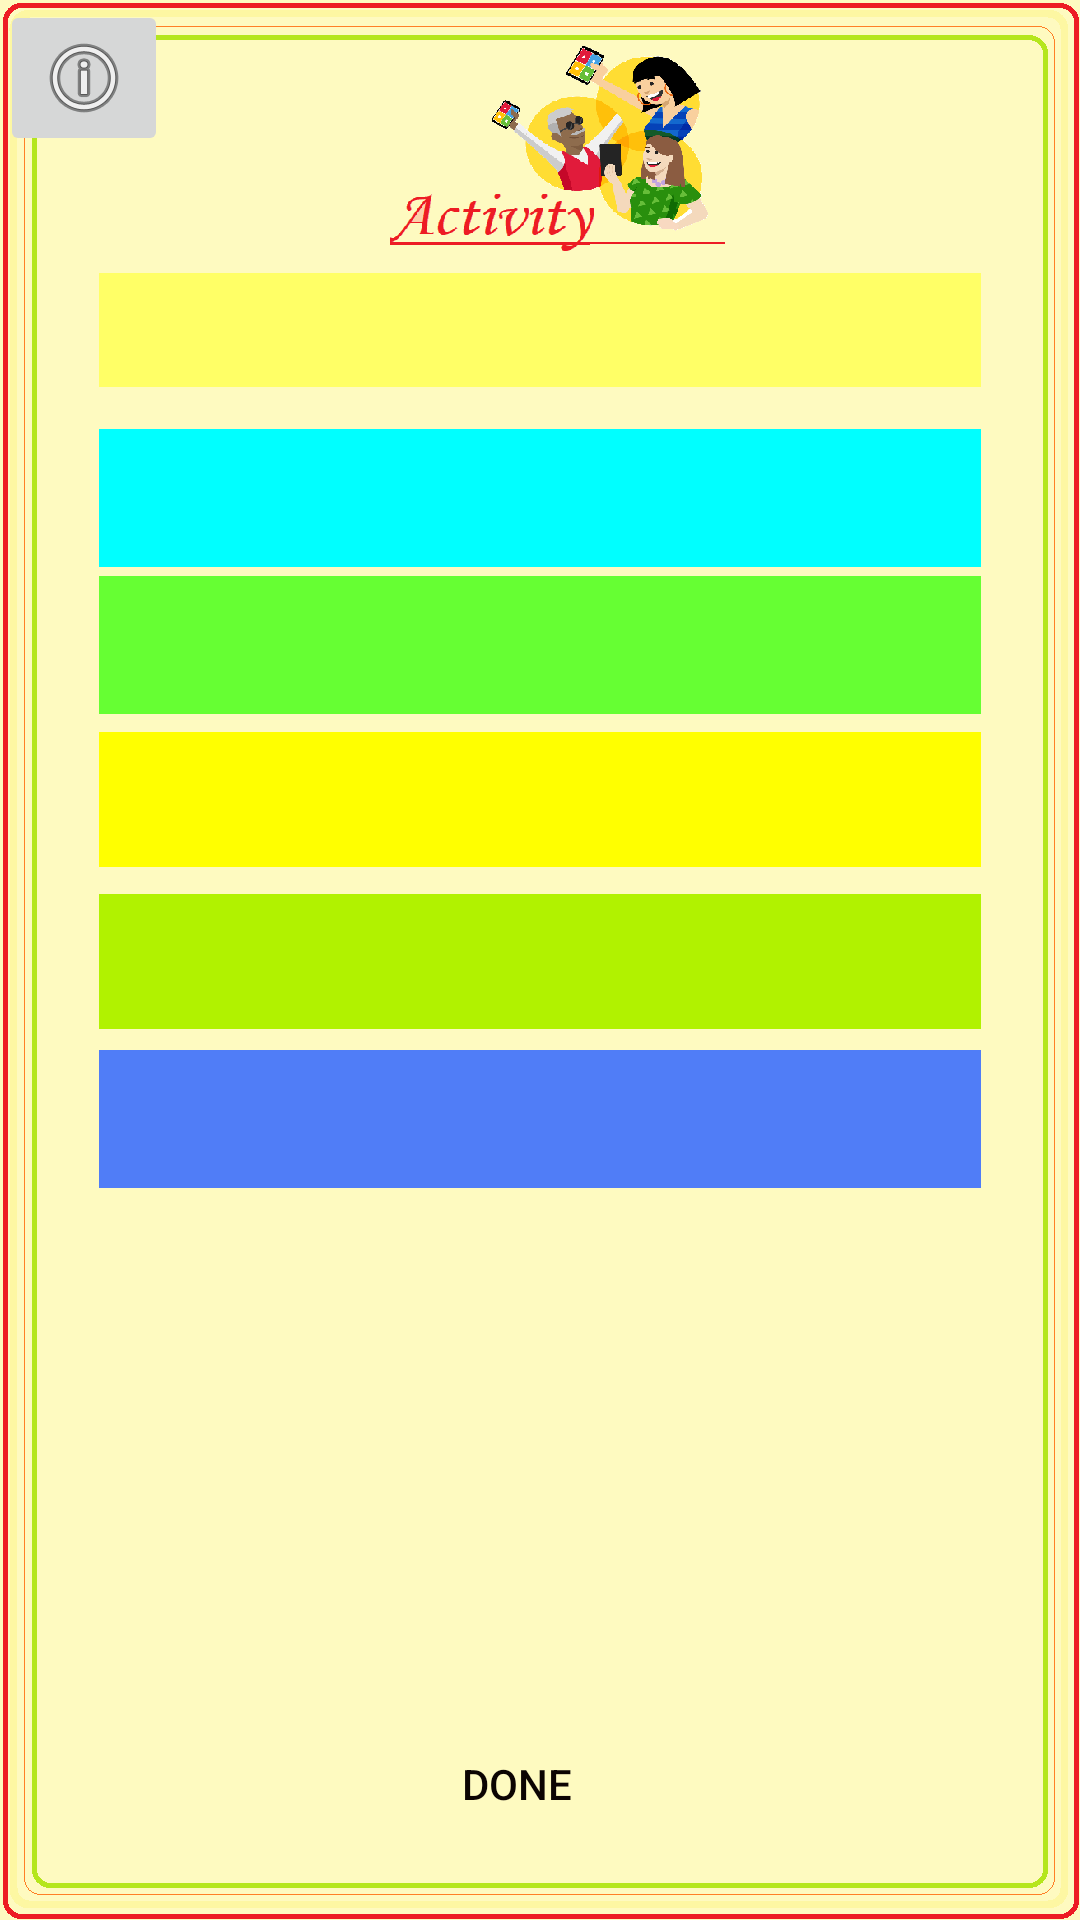

Where icons sit on this 1080x1920 app screen, as box(x1, y1, x2, y2):
info details: box(3, 3, 168, 156)
